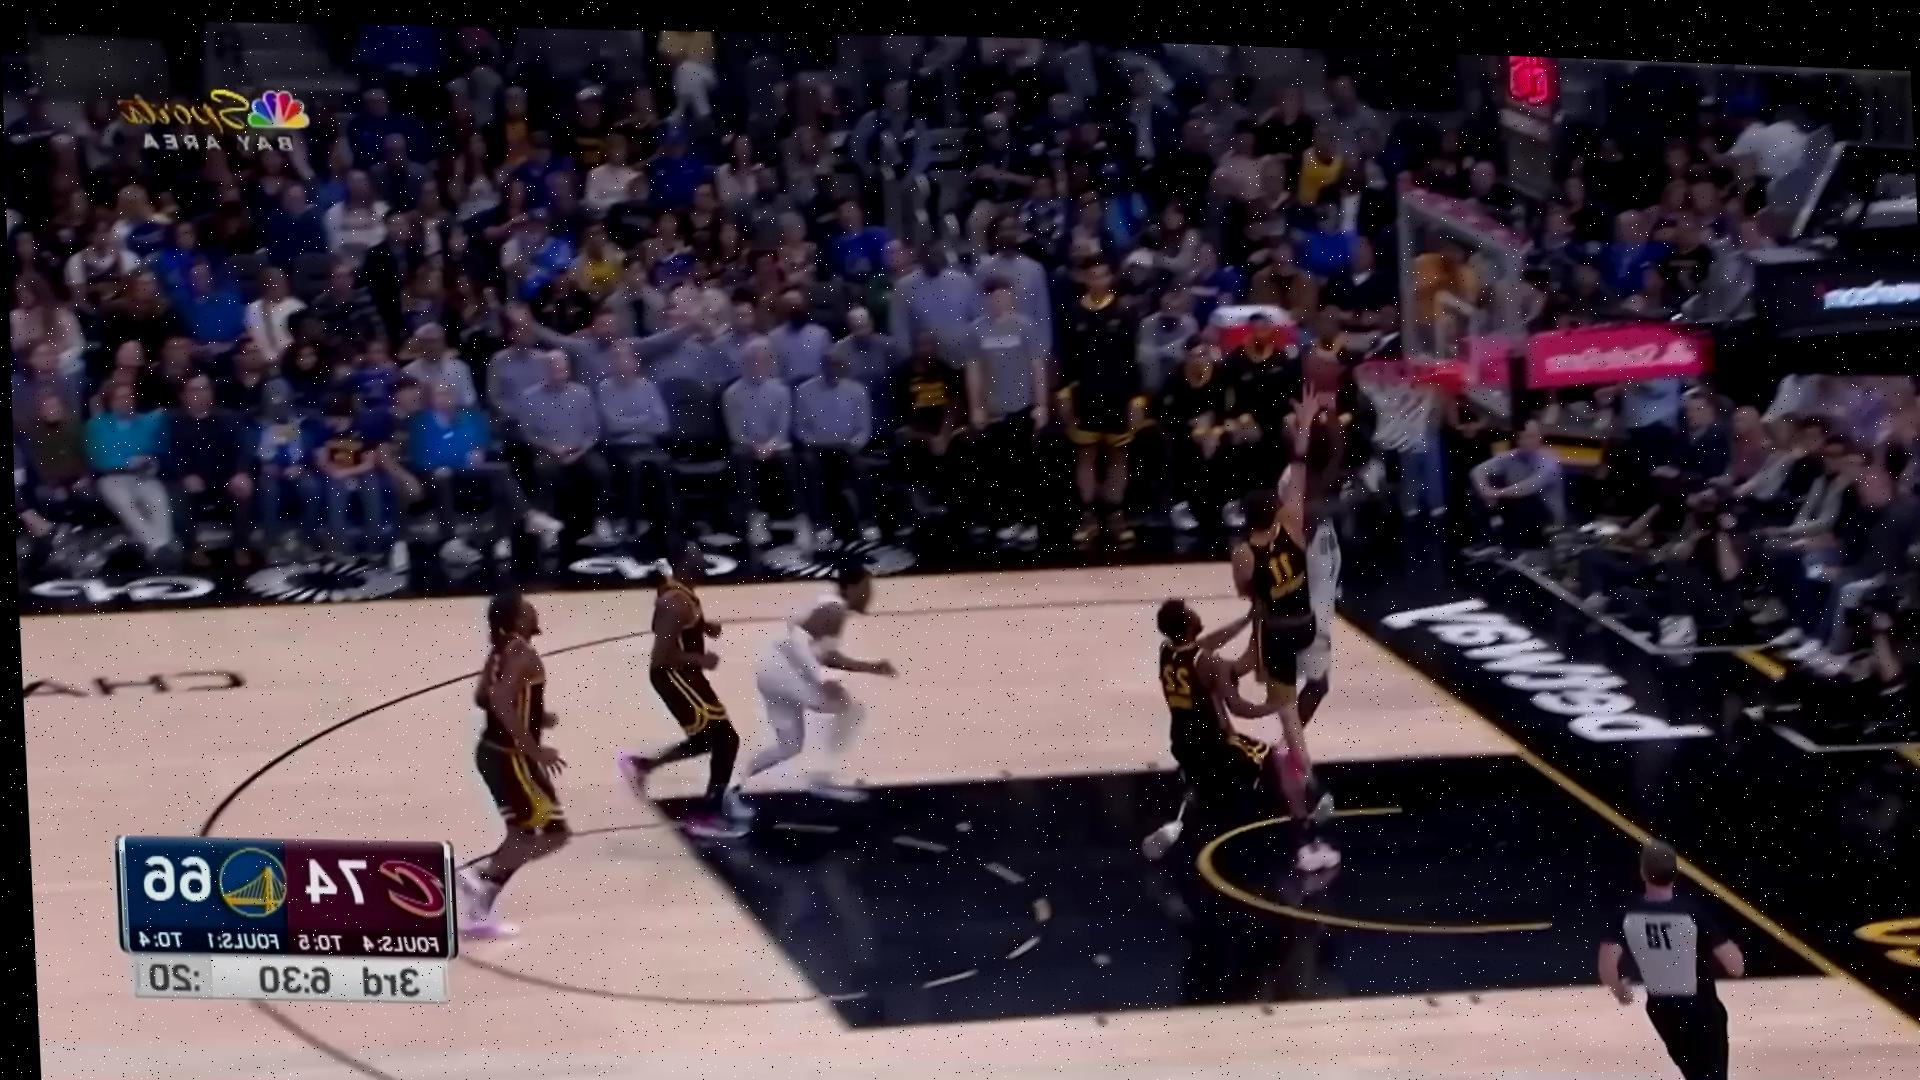foul: (1160, 395, 1401, 864)
